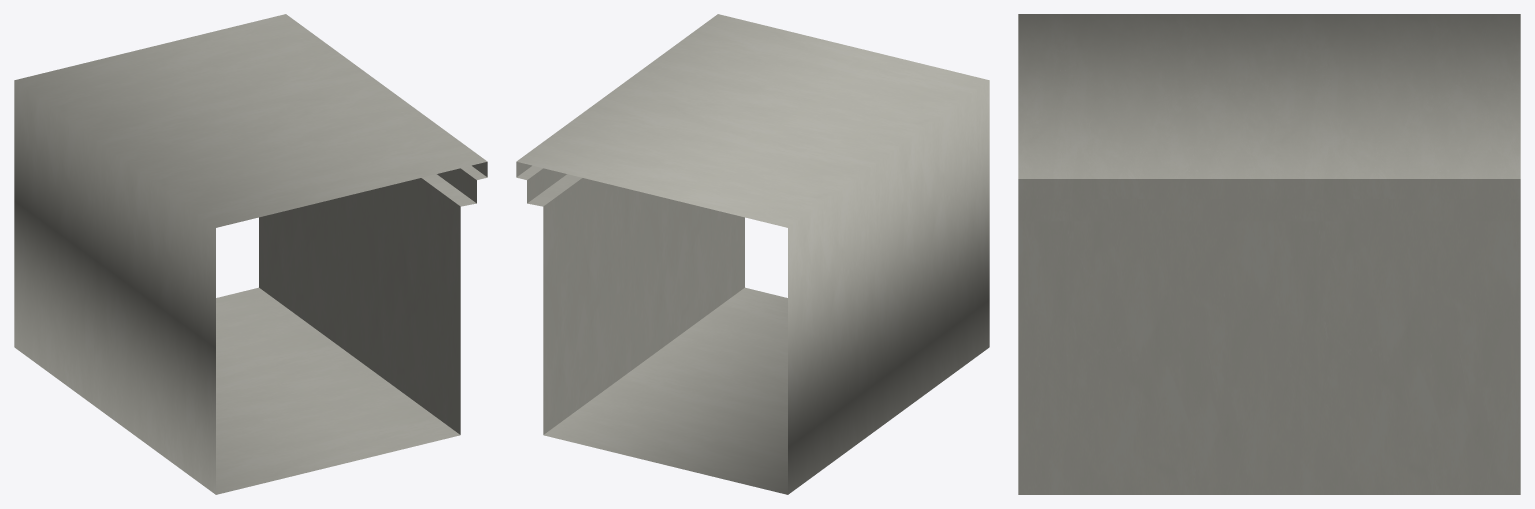
Rendered from trab_small_1.fbx.
3 renders of one model, left to right at view 1: azimuth 30°, elevation 25°; view 2: azimuth 150°, elevation 25°; view 3: azimuth 270°, elevation 25°, orthographic. The views are drawn at different scales.
Visible parts, largest first — view 1: trab_small_1; view 2: trab_small_1; view 3: trab_small_1.
Part boxes in pixels (<box>): trab_small_1: <box>14,14,487,494</box>; trab_small_1: <box>516,14,989,494</box>; trab_small_1: <box>1018,14,1520,494</box>.
Bounding box in the file's own units: 467 × 438 × 600.
